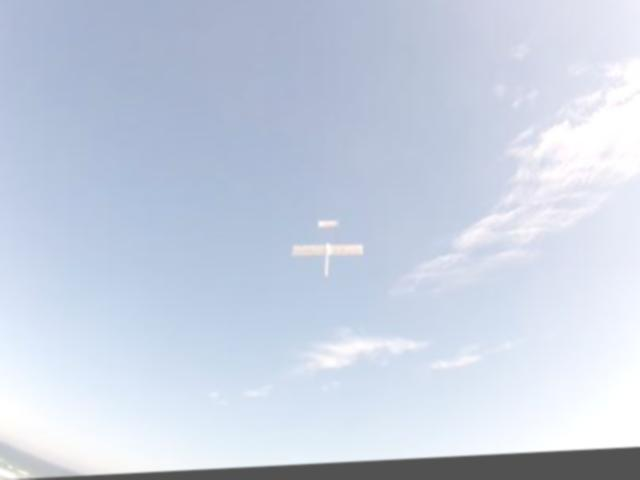uav: (291, 221, 363, 284)
